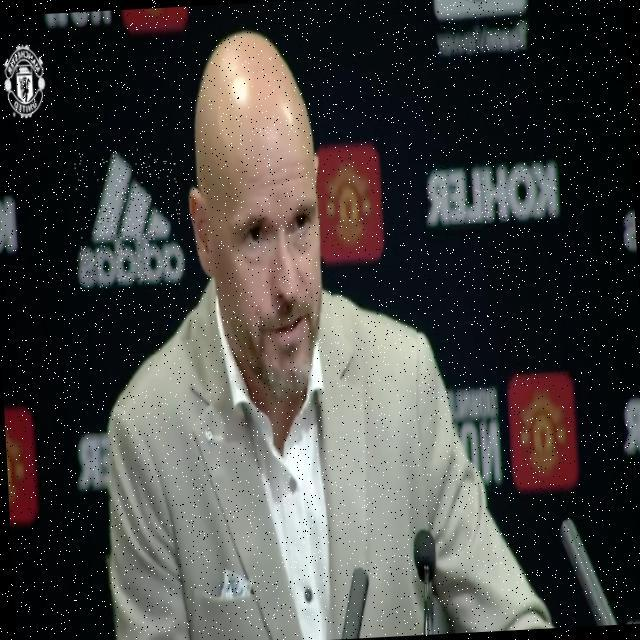Adidas: (71, 148, 186, 290)
Kohler: (426, 161, 559, 227)
TeamViewer: (434, 0, 528, 57)
